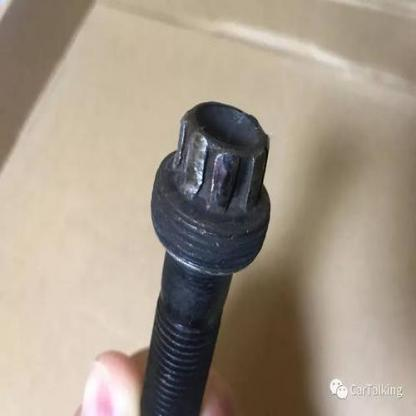FOD: (138, 98, 272, 415)
